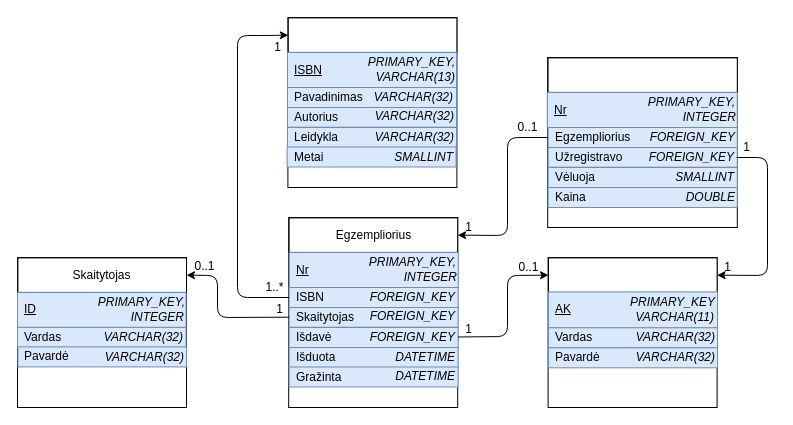
Some shapes in this 793 by 425 pixel diagram are drawn without their labels. Each missing label, with the centre of its shape:
"Darbuotojas" goes at pixel 632 274.
"Knyga" goes at pixel 372 34.
"Velavimai" goes at pixel 642 74.
